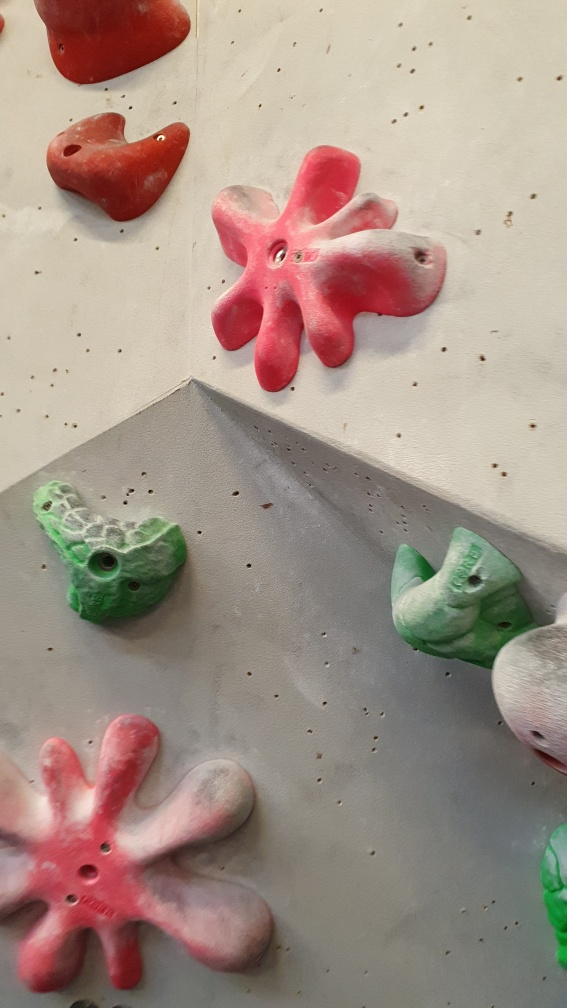Jug: (383, 524, 545, 670)
Octopus Pinch: (1, 710, 285, 992), (203, 136, 451, 404)
Sloper: (491, 596, 567, 778)
